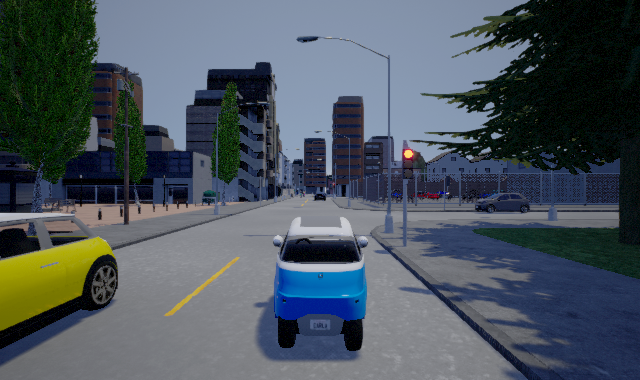traffic_light: (402, 143, 413, 185)
vehicle: (1, 213, 118, 349), (273, 216, 368, 351), (475, 191, 530, 213), (313, 191, 327, 203)
